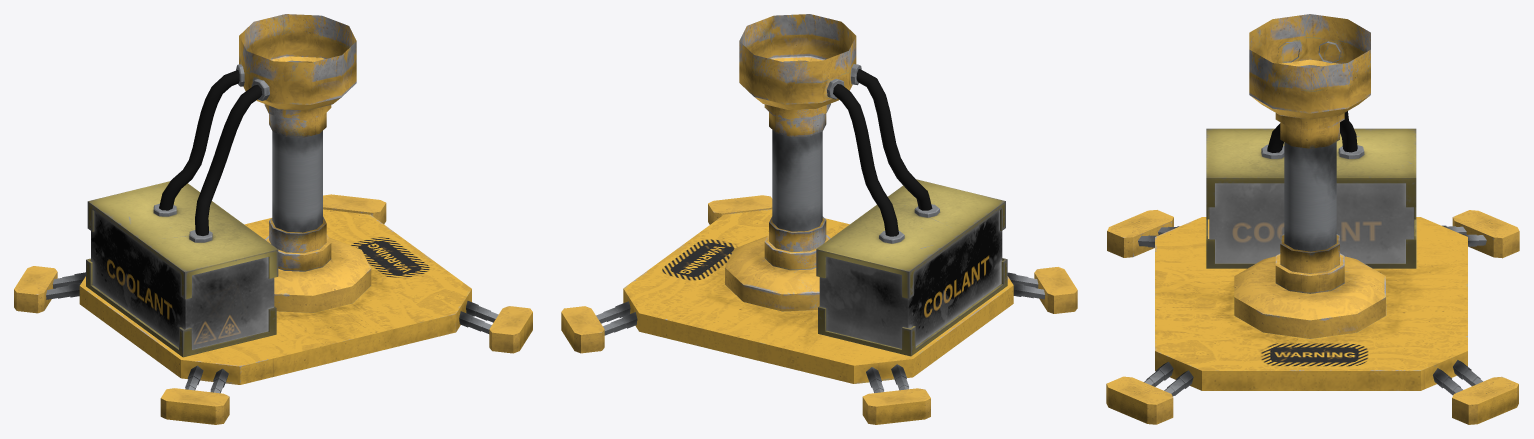
Rendered from sci-fi-turret-poly-surface1308.glb.
The picture shows the model from 3 angles, left to right: view 1: azimuth 30°, elevation 25°; view 2: azimuth 150°, elevation 25°; view 3: azimuth 270°, elevation 25°; orthographic projection. The views are drawn at different scales.
Visible parts, largest first — view 1: polySurface1308; view 2: polySurface1308; view 3: polySurface1308.
Boxes of the visible parts, x1=… form: polySurface1308: x1=14, y1=14, x2=532, y2=424; polySurface1308: x1=561, y1=14, x2=1077, y2=424; polySurface1308: x1=1106, y1=14, x2=1519, y2=424.
Bounding box in the file's own units: 1.22 × 0.868 × 1.09.
Materials: 1 (1 with a texture image).
